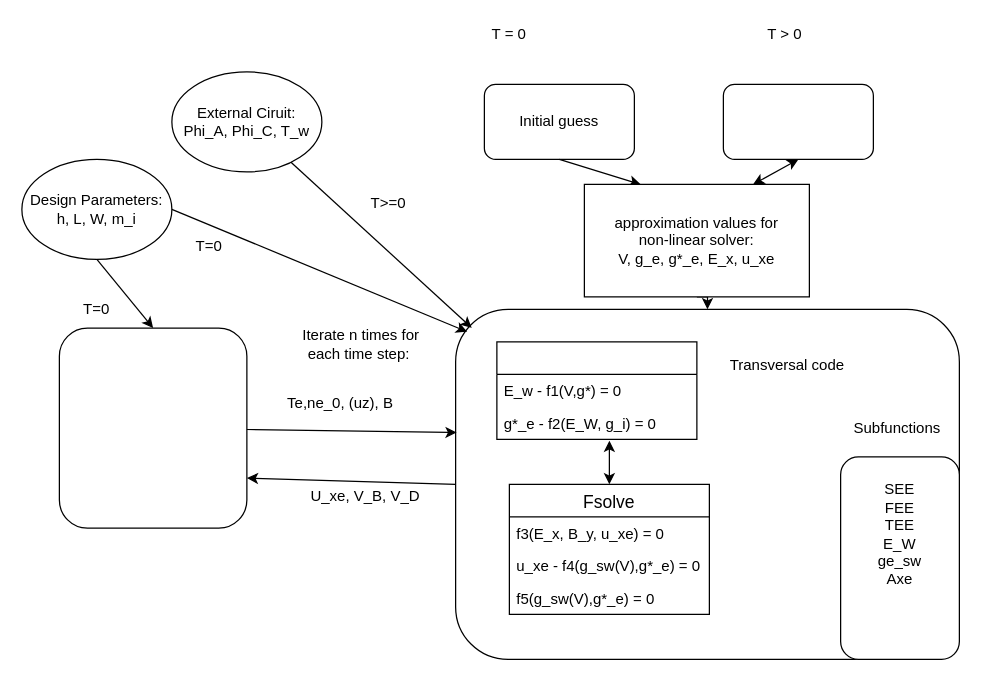
The diagram is 981 pixels wide and 681 high, and some of its shapes have lost their labels. The shapes that lost their labels are listed below. From the top down, each one's box as (x1, y1, x2, y2) in pixels, then its label:
(722, 83, 873, 159): Previous state
(496, 341, 697, 439): Fsolve (2x for B,D)
(58, 327, 247, 528): Axial code
